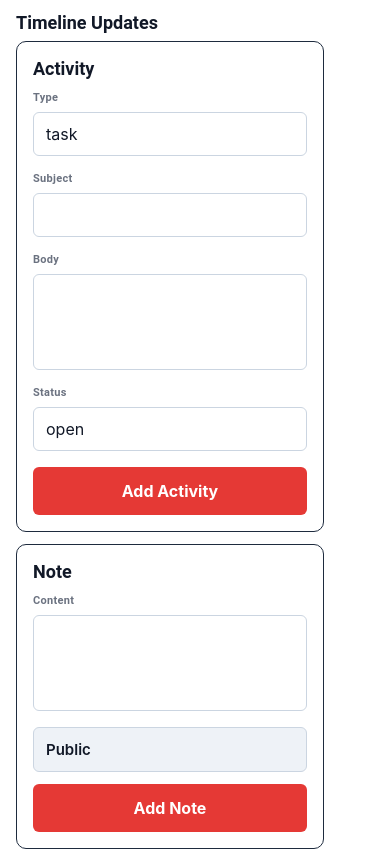
Scenario: CRM entity child forms › blocks child mutations when no signed-in user is available
Step 1. Type "Needs owner" into the text box with test id "crm-entity-child-note-content" → (170, 663), box [33,615,307,711]
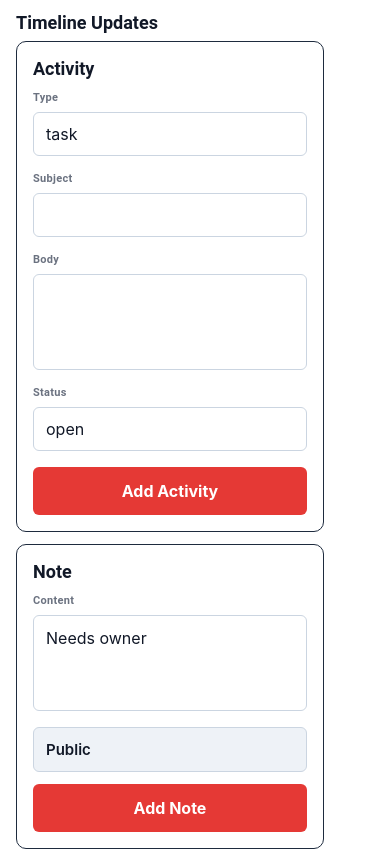
Step 2. Click the element with test id "crm-entity-child-note-submit" → (170, 808), box [33,784,307,832]
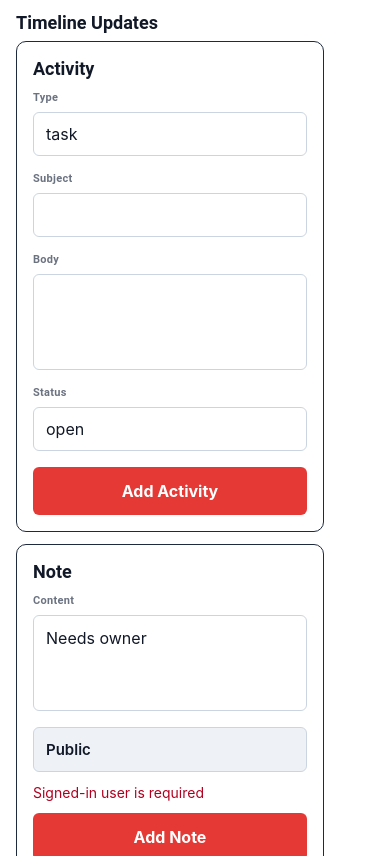
Now the text "Signed-in user is required" is shown, box [33,784,204,801]
